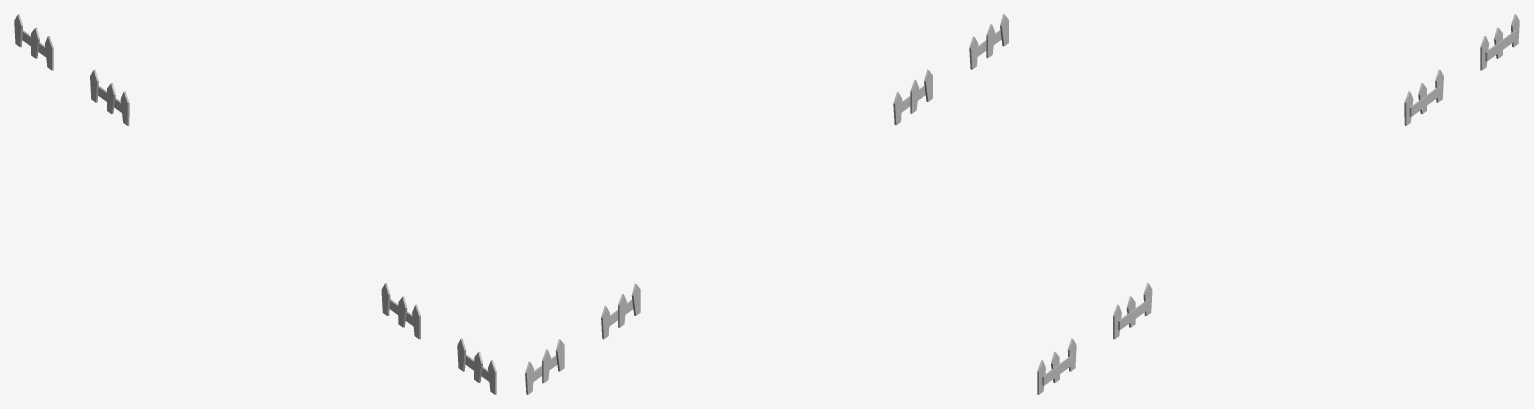
The model's file is pumpkinC.fbx.
3 views of the same model, side by side, from view 1: azimuth 30°, elevation 25°; view 2: azimuth 150°, elevation 25°; view 3: azimuth 330°, elevation 25° (orthographic).
Parts seen in each view (by area): view 1: pumpkinC; view 2: pumpkinC; view 3: pumpkinC.
Part boxes in pixels (left/top/right/bottom): pumpkinC: left=14, top=14, right=496, bottom=394; pumpkinC: left=525, top=14, right=1008, bottom=394; pumpkinC: left=1037, top=14, right=1519, bottom=394.
Bounding box in the file's own units: 10.4 × 87.65 × 2426.
1 material, 1 textured.
